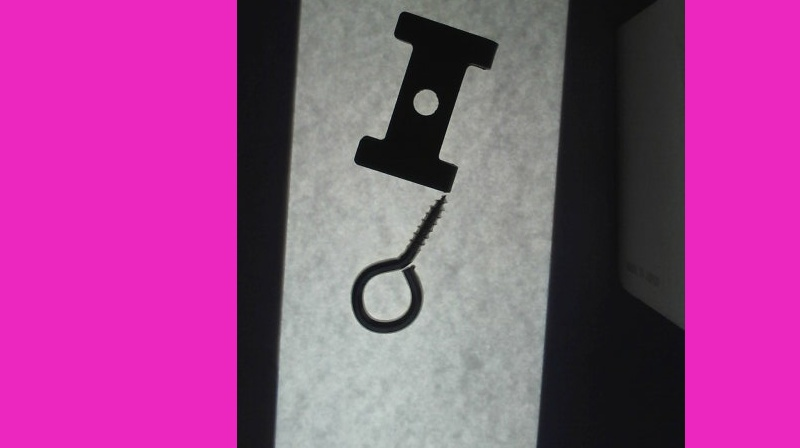O001: (348, 193, 448, 334)
O002: (352, 11, 498, 190)
